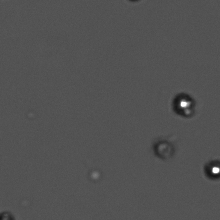Dead Cell: (151, 136, 182, 161)
Living Cell: (169, 86, 203, 119), (205, 157, 220, 179)
